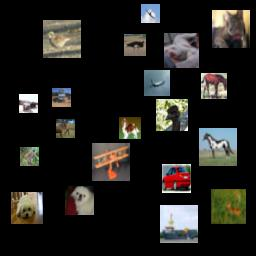airplane: (92, 143, 130, 181), (144, 70, 170, 96), (141, 4, 160, 23)
automobile: (162, 164, 191, 193)
bird: (43, 20, 81, 58), (156, 99, 188, 131), (124, 34, 146, 56)
cat: (212, 10, 250, 48)
deer: (211, 189, 246, 224)
dog: (164, 33, 199, 68), (11, 192, 43, 224), (65, 186, 94, 215), (119, 117, 141, 139)
frog: (20, 147, 39, 166)
ship: (160, 205, 198, 243)
truck: (52, 88, 71, 107), (19, 94, 38, 113)
